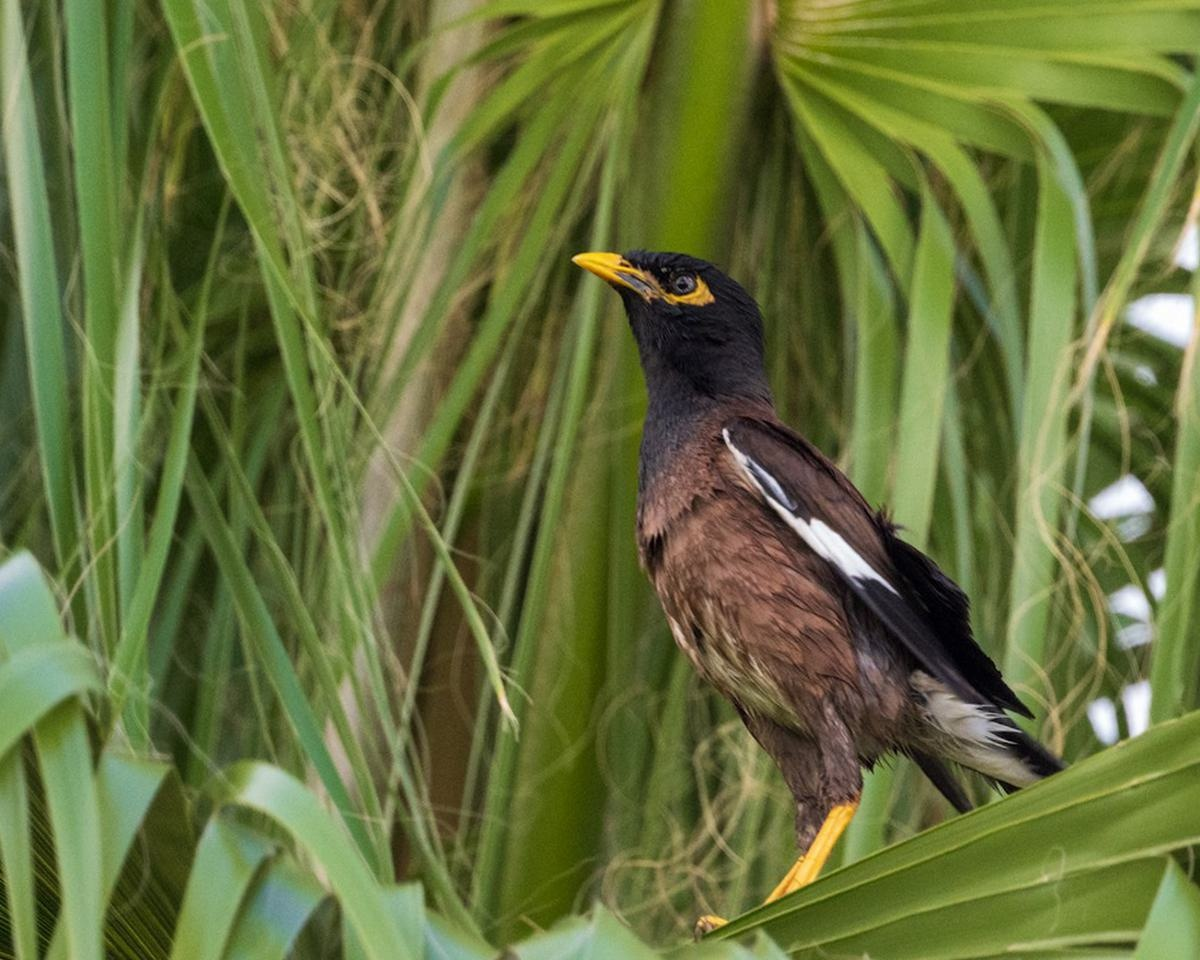myna: (568, 230, 1045, 860)
